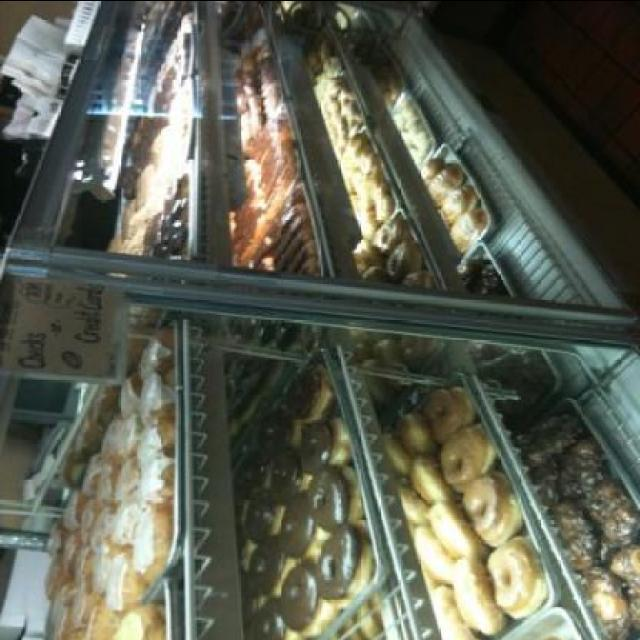Donuts: (42, 1, 620, 636)
